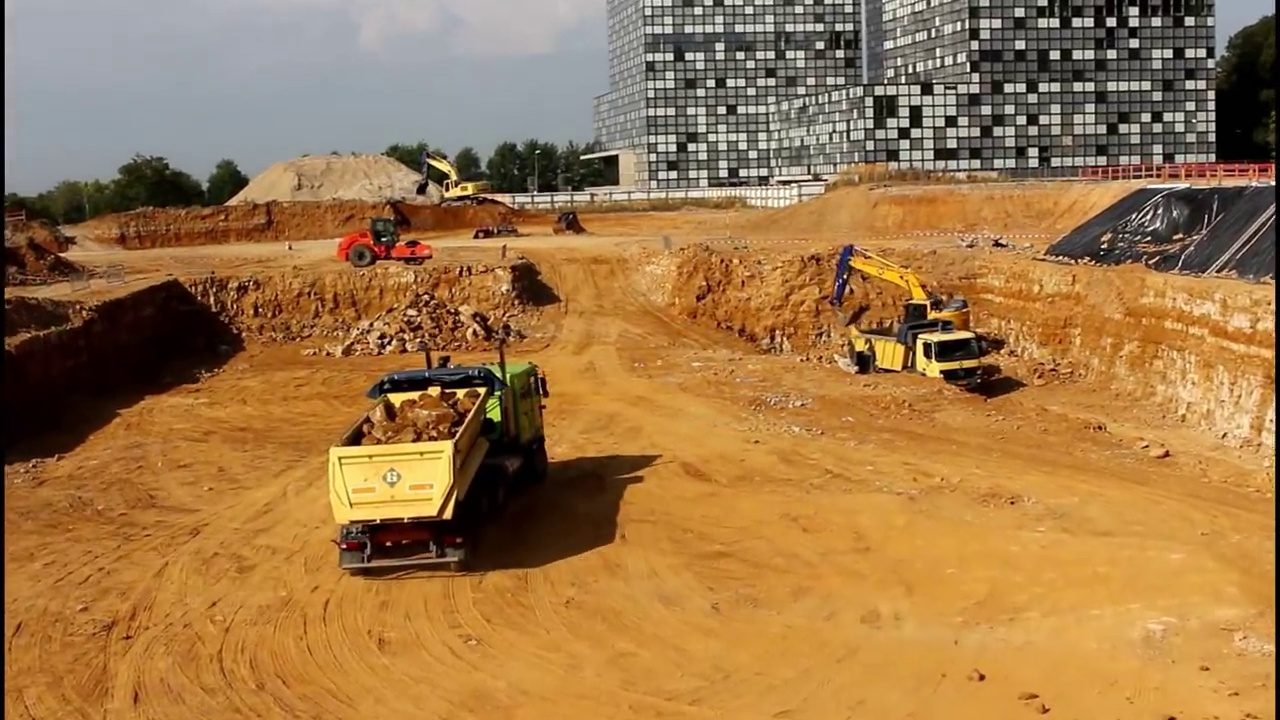compactor: (336, 220, 436, 267)
excavator: (827, 241, 989, 369), (413, 148, 493, 212)
truck: (326, 340, 554, 578), (843, 321, 986, 407)
